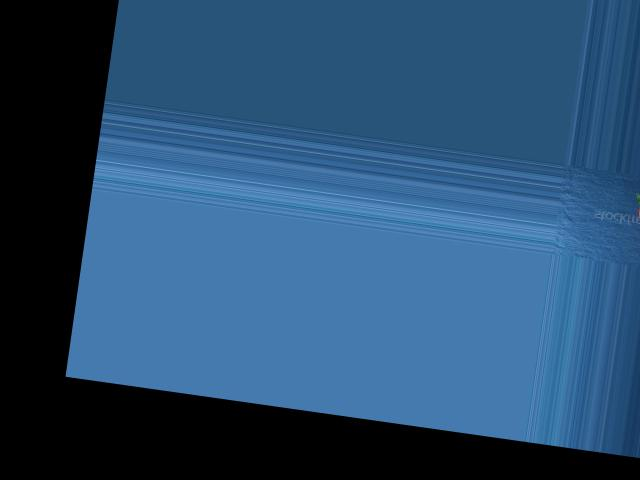tomato: (636, 191, 640, 235)
